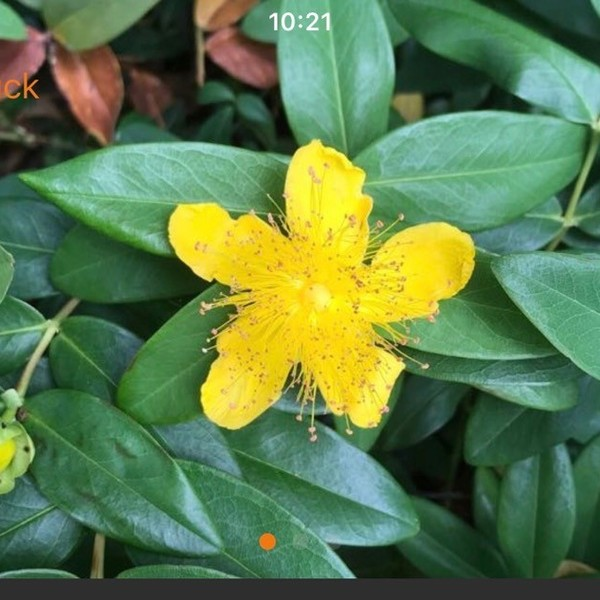obstacle: (51, 15, 550, 440)
